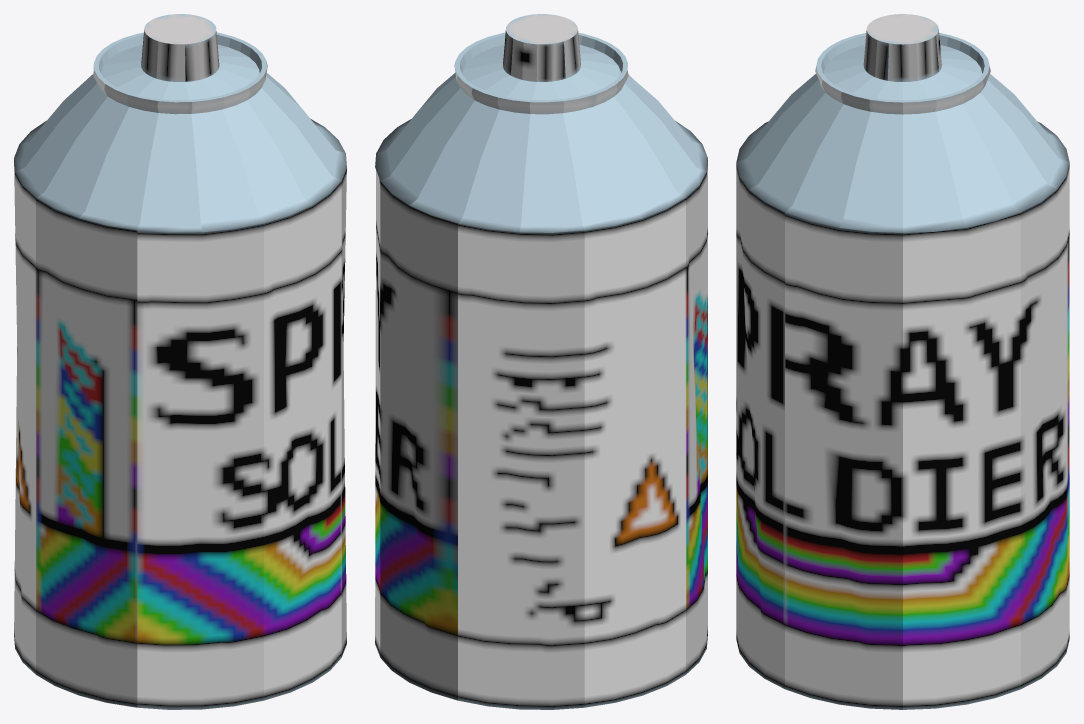
Rendered from Spraycan.fbx.
3 renders of one model, left to right at view 1: azimuth 30°, elevation 25°; view 2: azimuth 150°, elevation 25°; view 3: azimuth 270°, elevation 25°, orthographic.
Parts seen in each view (by area): view 1: Spraycan; view 2: Spraycan; view 3: Spraycan.
Boxes of the visible parts, x1,y1,x2,y2 form: Spraycan: [14, 14, 346, 709]; Spraycan: [375, 14, 707, 709]; Spraycan: [736, 14, 1069, 709].
Bounding box in the file's own units: 0.1444 × 0.2915 × 0.1444.
